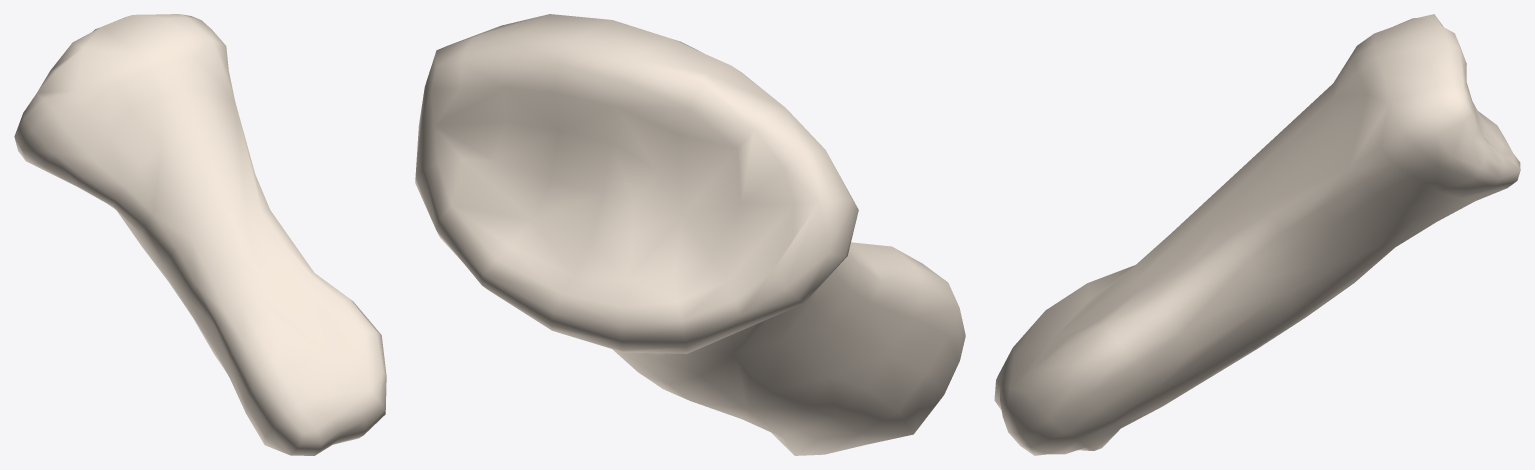
File: left_digit_2_distal.glb
The picture shows the model from 3 angles, left to right: view 1: azimuth 30°, elevation 25°; view 2: azimuth 150°, elevation 25°; view 3: azimuth 270°, elevation 25°; orthographic projection. The views are drawn at different scales.
Parts seen in each view (by area): view 1: Distal phalanx of 2d finger.r; view 2: Distal phalanx of 2d finger.r; view 3: Distal phalanx of 2d finger.r.
Boxes of the visible parts, x1,y1,x2,y2 form: Distal phalanx of 2d finger.r: [14, 14, 386, 455]; Distal phalanx of 2d finger.r: [415, 14, 965, 455]; Distal phalanx of 2d finger.r: [994, 14, 1520, 455].
Bounding box in the file's own units: 0.00985 × 0.0136 × 0.0165.
